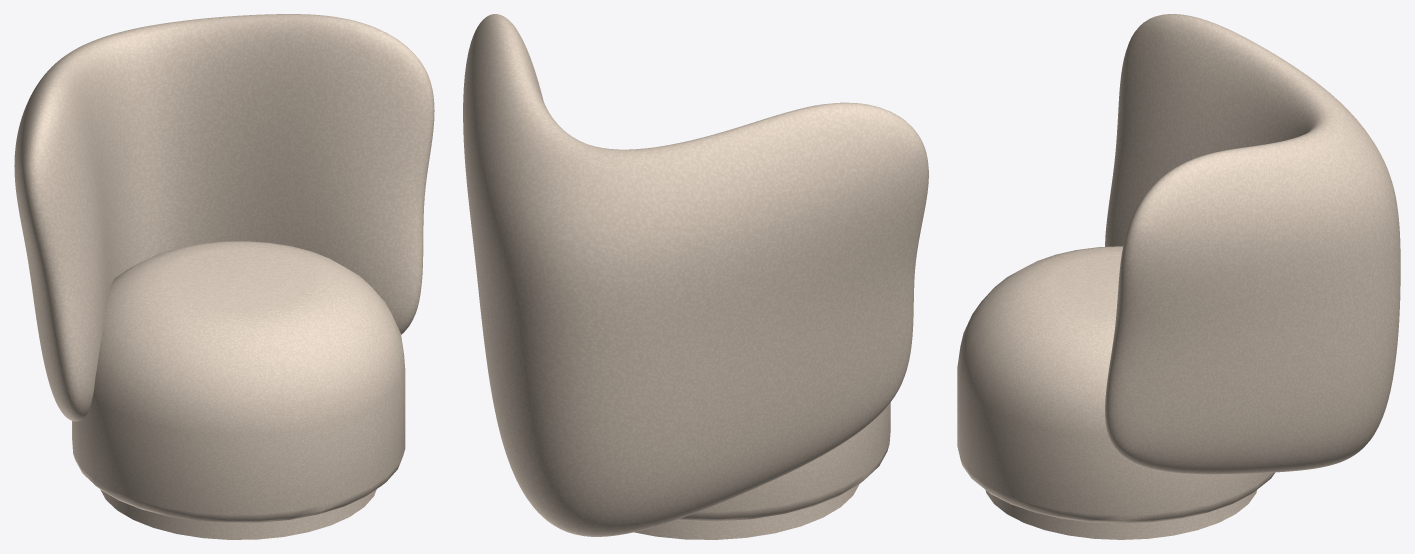
The model's file is furniture__no-27.glb.
The picture shows the model from 3 angles, left to right: view 1: azimuth 30°, elevation 25°; view 2: azimuth 150°, elevation 25°; view 3: azimuth 270°, elevation 25°; orthographic projection. The views are drawn at different scales.
Visible parts, largest first — view 1: Leaningpart_0, sitting part_1; view 2: Leaningpart_0, sitting part_1; view 3: Leaningpart_0, sitting part_1.
Part boxes in pixels (box(x1,y1,x2,y2)): Leaningpart_0: box(14, 14, 434, 421); sitting part_1: box(72, 241, 405, 539); Leaningpart_0: box(463, 14, 928, 536); sitting part_1: box(634, 402, 890, 539); Leaningpart_0: box(1105, 14, 1400, 474); sitting part_1: box(957, 246, 1275, 539).
Bounding box in the file's own units: 1.07 × 1 × 1.03.
2 materials, 2 textured.
